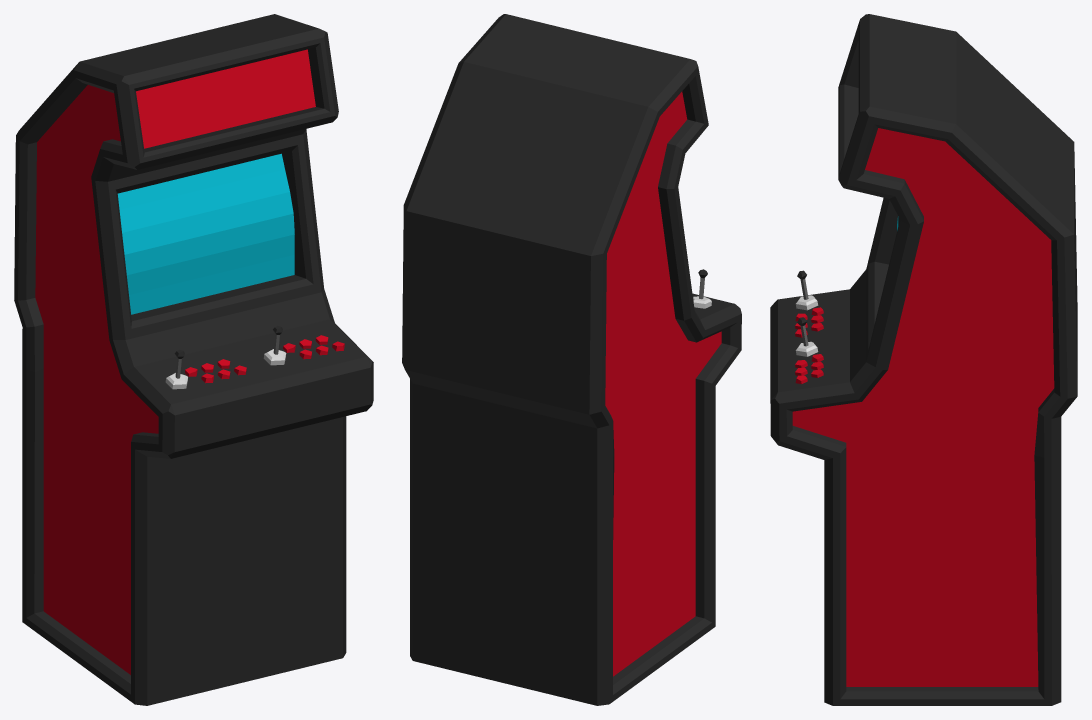
File: Acade.fbx
The picture shows the model from 3 angles, left to right: view 1: azimuth 30°, elevation 25°; view 2: azimuth 150°, elevation 25°; view 3: azimuth 270°, elevation 25°; orthographic projection. The views are drawn at different scales.
Parts seen in each view (by area): view 1: Arcade; view 2: Arcade; view 3: Arcade.
Boxes of the visible parts, box(x1,y1,x2,y2) form: Arcade: box(14, 14, 373, 705); Arcade: box(402, 14, 741, 705); Arcade: box(770, 14, 1077, 705).
Bounding box in the file's own units: 64.65 × 179 × 83.74.
